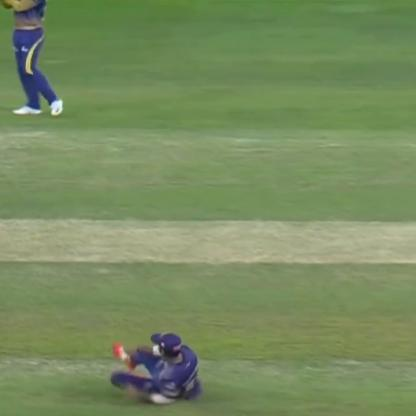ball: (119, 348, 136, 364)
